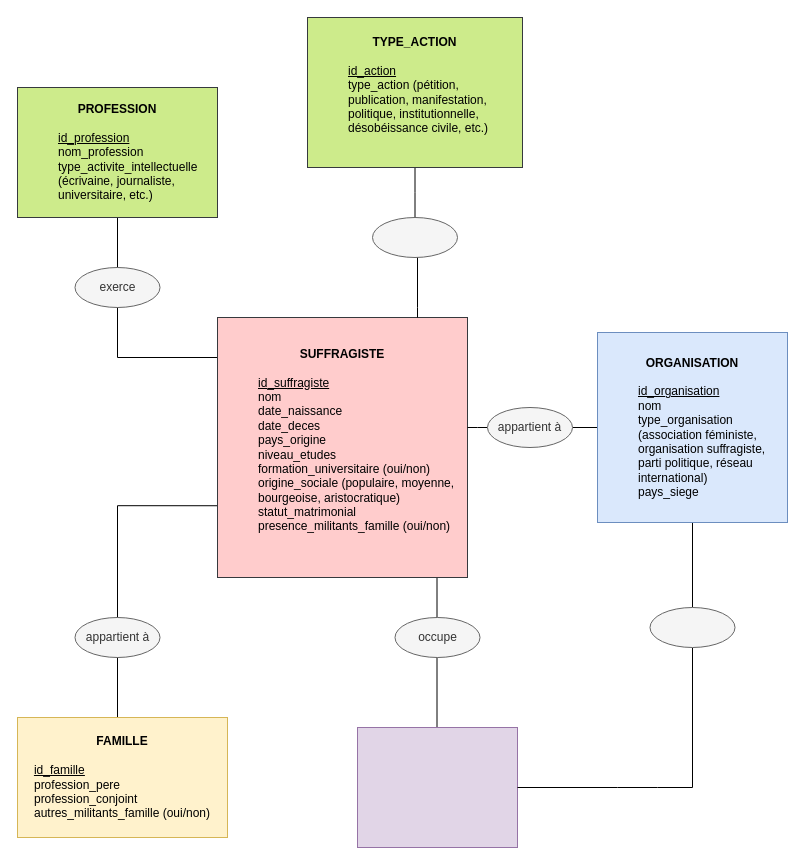
Some shapes in this 805 by 865 pixel diagram are drawn without their labels. The centre of each missing label's shape, as x and y in pixels:
"dans" goes at (x=692, y=627).
"FONCTION_DIRIGEANTE id_fonction titre_fonction date_debut date_fin" goes at (x=437, y=787).
"pratique" goes at (x=415, y=237).
